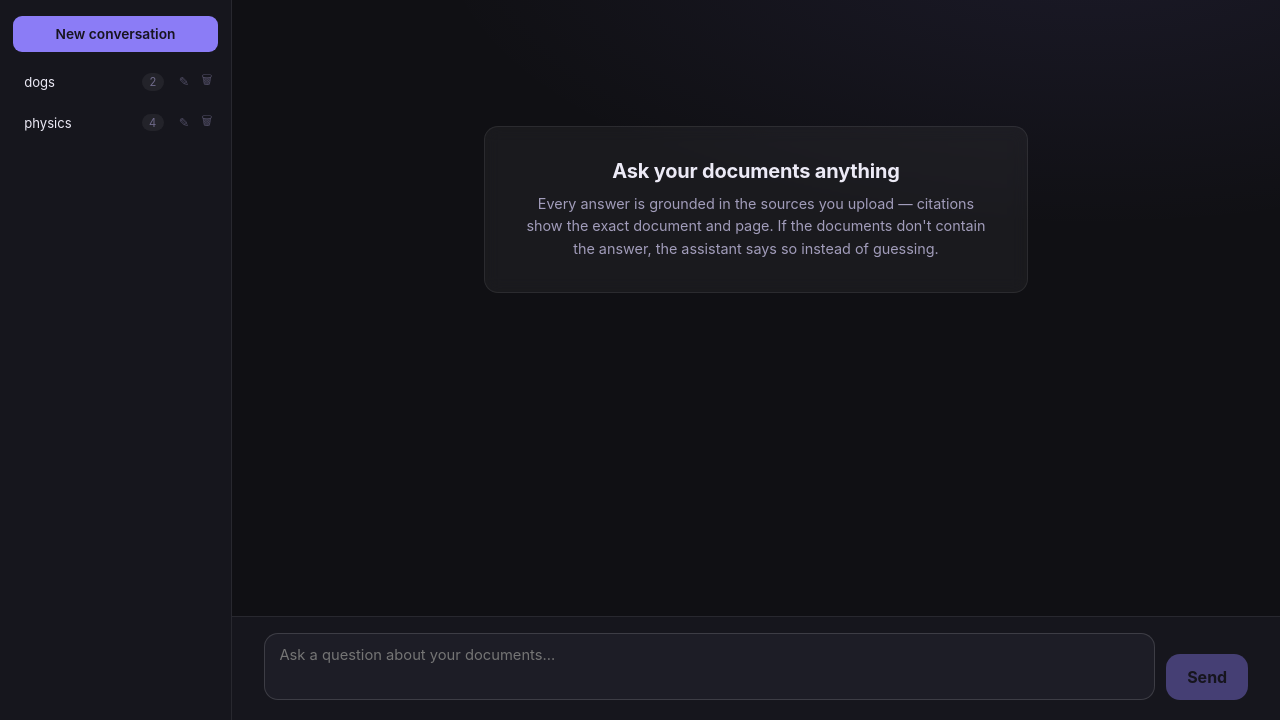
Test: delete › shows an error banner when the delete API fails
This screenshot has width=1280, height=720.
Expected: the element with test id "conversation-item" showing "dogs 2 ✎ 🗑" is shown, top-left (13, 64), bottom-right (218, 100)
Click the button named "Delete dogs".
click(207, 82)  # box top-left (196, 66), bottom-right (217, 98)
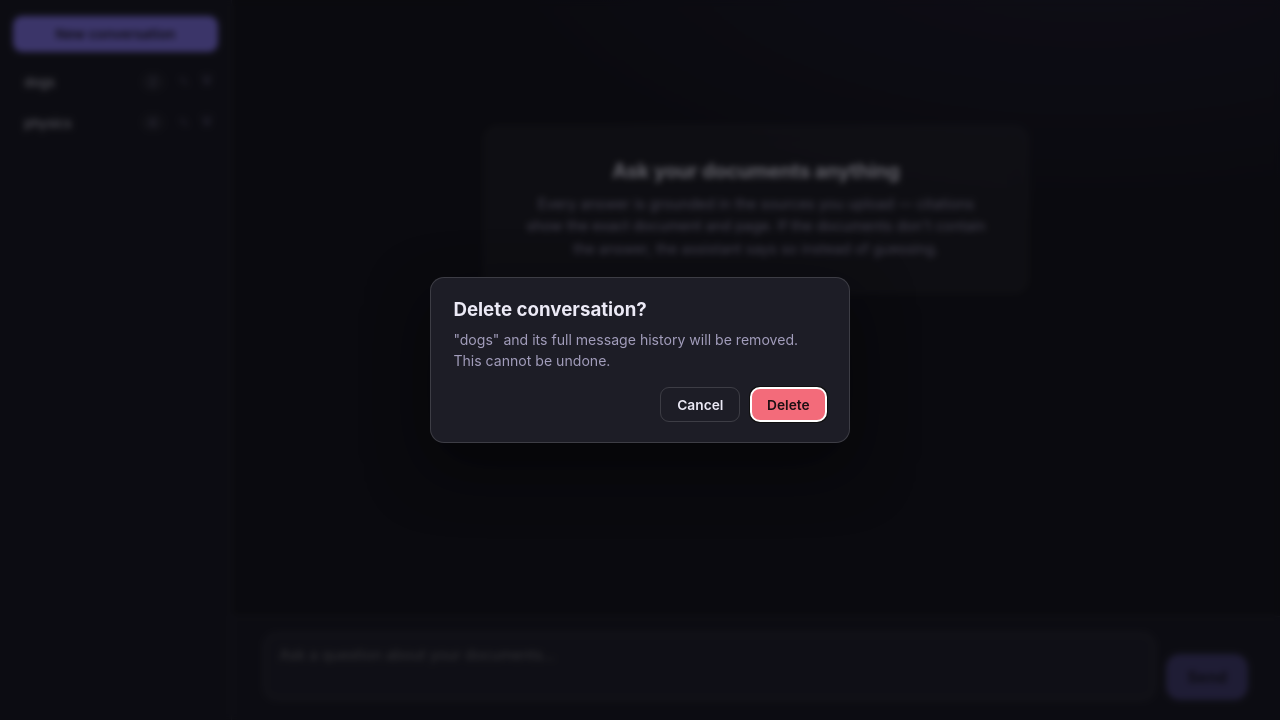
Click the button "Delete".
click(788, 405)  # box top-left (750, 387), bottom-right (827, 422)
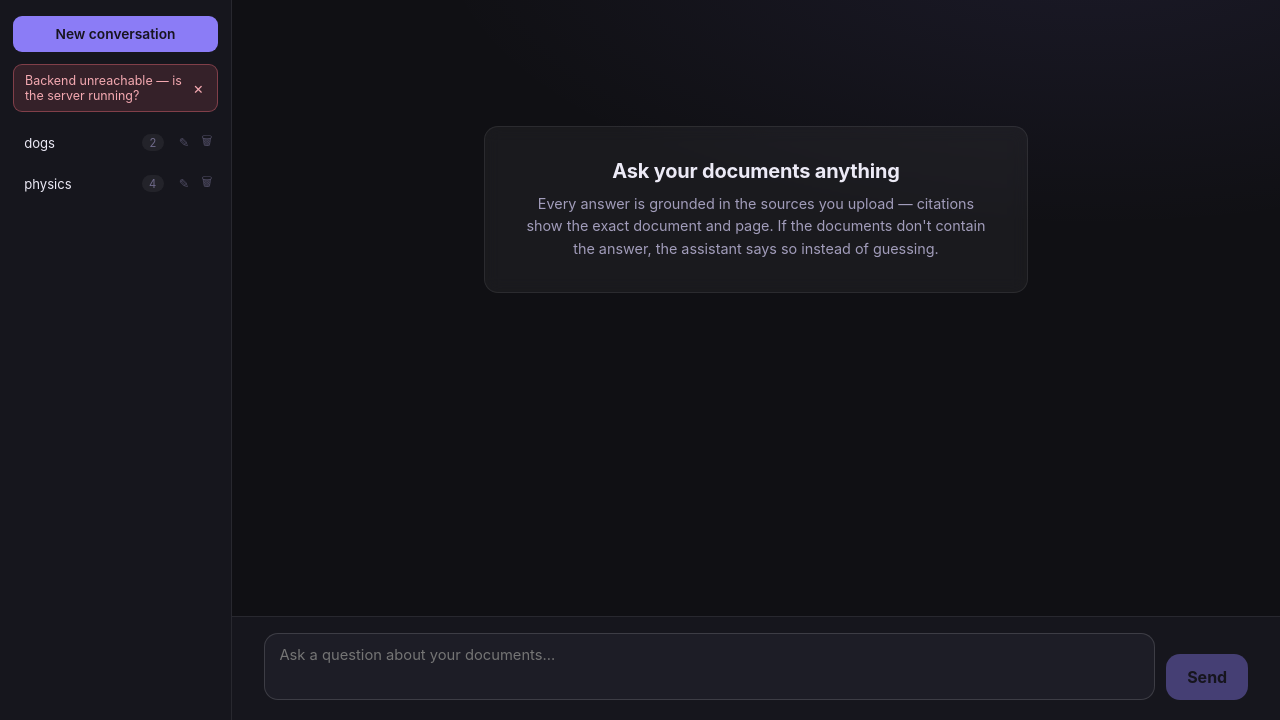
Expected: the element with test id "conversation-item" showing "dogs 2 ✎ 🗑" is shown, top-left (13, 125), bottom-right (218, 160)
Expected: the message "Backend unreachable — is the server running? ×" is shown, top-left (13, 64), bottom-right (218, 112)
Expected: the text "Backend unreachable — is the server running?" is shown, top-left (25, 73), bottom-right (183, 103)
